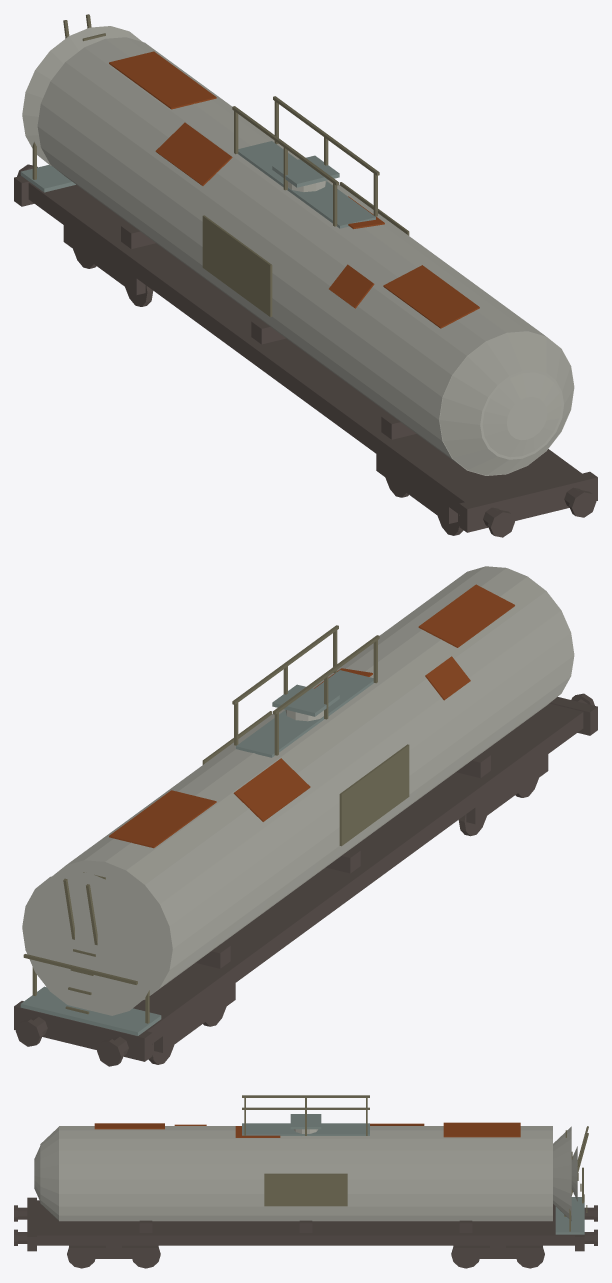
The model's file is SM_VagonCisterna_v1_Oxidada_LOD0.fbx.
The picture shows the model from 3 angles, top to bottom: view 1: azimuth 30°, elevation 25°; view 2: azimuth 150°, elevation 25°; view 3: azimuth 270°, elevation 25°; orthographic projection. The views are drawn at different scales.
Visible parts, largest first — view 1: SM_bloques.vagon_cisterna_v1_LOD0; view 2: SM_bloques.vagon_cisterna_v1_LOD0; view 3: SM_bloques.vagon_cisterna_v1_LOD0.
Boxes of the visible parts, <box> form: SM_bloques.vagon_cisterna_v1_LOD0: <box>14,14,597,537</box>; SM_bloques.vagon_cisterna_v1_LOD0: <box>14,566,597,1066</box>; SM_bloques.vagon_cisterna_v1_LOD0: <box>14,1095,597,1268</box>.
Bounding box in the file's own units: 3.08 × 5.33 × 18.24.
